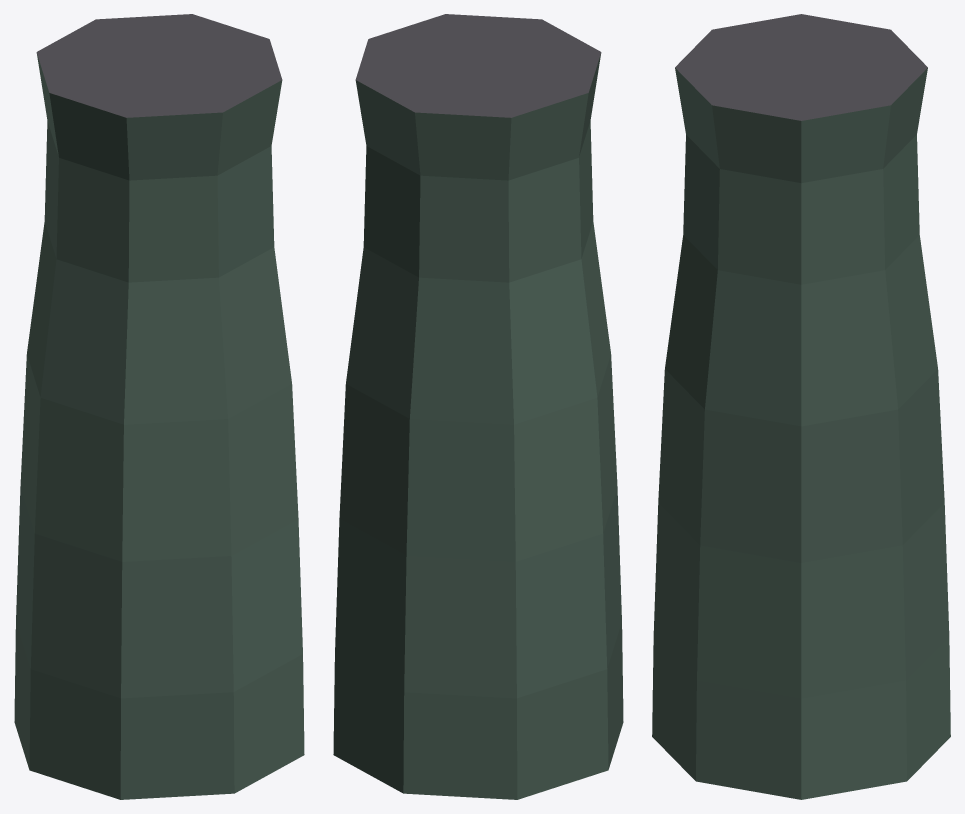
Rendered from vase.glb.
3 views of the same model, side by side, from view 1: azimuth 30°, elevation 25°; view 2: azimuth 150°, elevation 25°; view 3: azimuth 270°, elevation 25° (orthographic).
Visible parts, largest first — view 1: vase.001; view 2: vase.001; view 3: vase.001.
Boxes of the visible parts, x1,y1,x2,y2 form: vase.001: (14, 14, 304, 799); vase.001: (333, 14, 623, 799); vase.001: (652, 14, 950, 799).
Bounding box in the file's own units: 0.0821 × 0.2031 × 0.0821.
